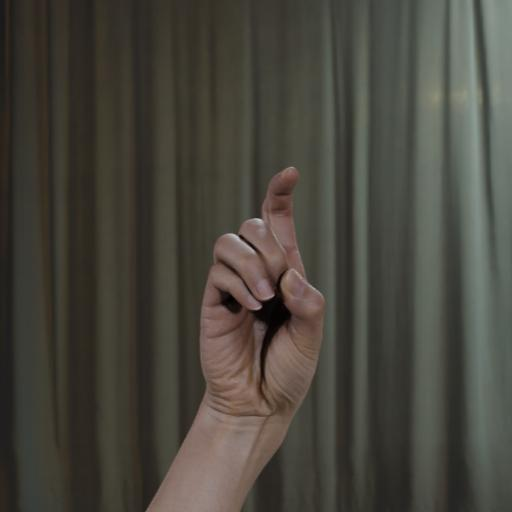X: (160, 115, 456, 490)
